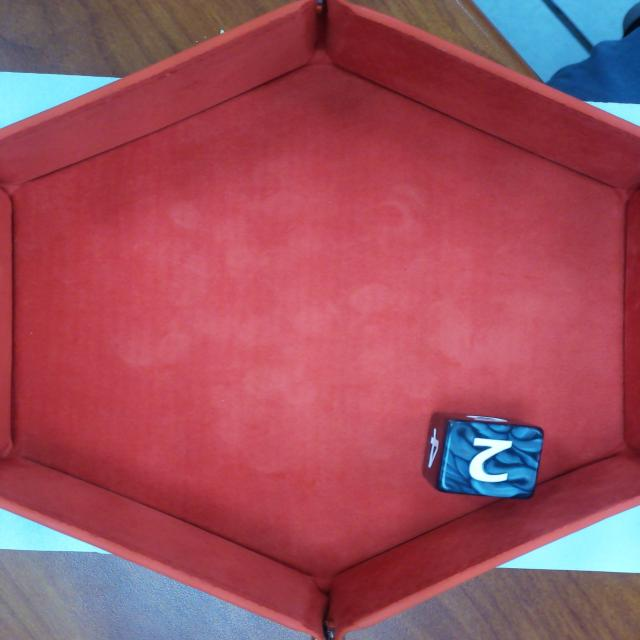dice: (442, 418, 545, 499)
